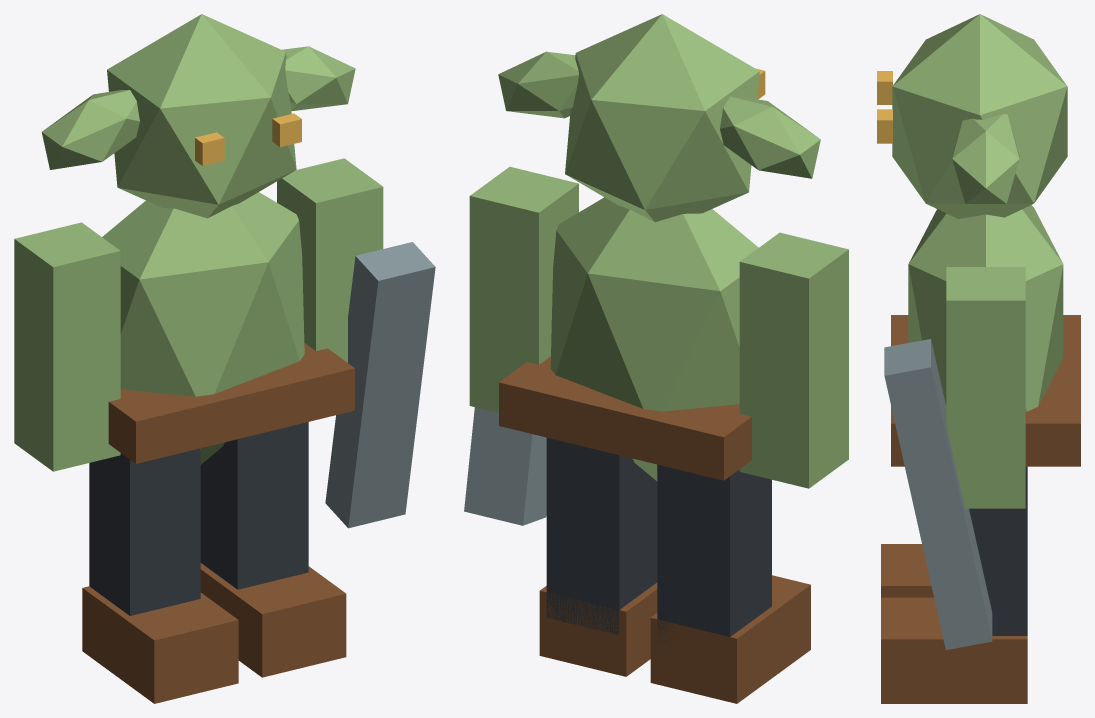
The model's file is raider.fbx.
3 views of the same model, side by side, from view 1: azimuth 30°, elevation 25°; view 2: azimuth 150°, elevation 25°; view 3: azimuth 270°, elevation 25° (orthographic). The views are drawn at different scales.
Visible parts, largest first — view 1: Torso, Head, ArmLMesh, Blade, LegLMesh, LegRMesh, Belt, Boot, ArmRMesh, Boot.001, Ear, Ear.001 (+2 smaller); view 2: Torso, Head, ArmLMesh, ArmRMesh, LegRMesh, LegLMesh, Belt, Boot, Blade, Boot.001, Ear, Ear.001; view 3: Head, ArmRMesh, Blade, Torso, Boot.001, Belt, LegRMesh, Ear.001, Boot, Eye.001, Eye.
Part boxes in pixels (<box>): Torso: <box>102,192,304,464</box>; Head: <box>107,14,296,218</box>; ArmLMesh: <box>14,222,120,471</box>; Blade: <box>325,242,435,528</box>; LegLMesh: <box>89,448,200,615</box>; LegRMesh: <box>200,422,308,589</box>; Belt: <box>108,343,354,463</box>; Boot: <box>82,586,238,703</box>; ArmRMesh: <box>277,158,383,362</box>; Boot.001: <box>200,563,346,677</box>; Ear: <box>41,90,139,169</box>; Ear.001: <box>282,46,355,111</box>; Torso: <box>550,197,758,481</box>; Head: <box>565,14,759,222</box>; ArmLMesh: <box>739,232,848,488</box>; ArmRMesh: <box>469,166,578,412</box>; LegRMesh: <box>546,437,657,635</box>; LegLMesh: <box>657,464,771,646</box>; Belt: <box>499,356,751,480</box>; Boot: <box>650,575,810,703</box>; Blade: <box>464,407,546,525</box>; Boot.001: <box>539,582,657,676</box>; Ear: <box>720,96,820,178</box>; Ear.001: <box>498,51,578,118</box>; Head: <box>892,14,1067,218</box>; ArmRMesh: <box>946,267,1025,508</box>; Blade: <box>884,339,992,649</box>; Torso: <box>908,205,1063,411</box>; Boot.001: <box>881,597,1027,703</box>; Belt: <box>891,315,1080,466</box>; LegRMesh: <box>969,466,1027,635</box>; Ear.001: <box>952,114,1019,203</box>; Boot: <box>881,544,933,597</box>; Eye.001: <box>877,109,892,143</box>; Eye: <box>877,71,892,104</box>.
Bounding box in the file's own units: 105 × 179 × 51.5.
